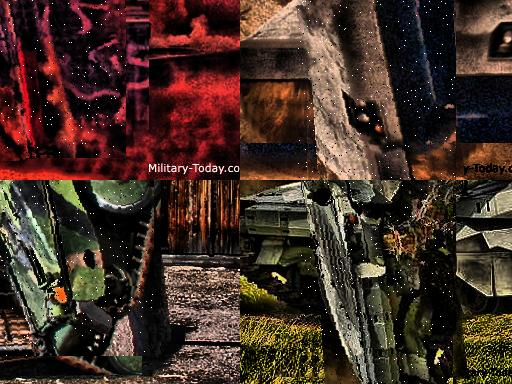tanks: (302, 181, 454, 384), (298, 3, 457, 181), (1, 181, 154, 357), (1, 1, 127, 158)
